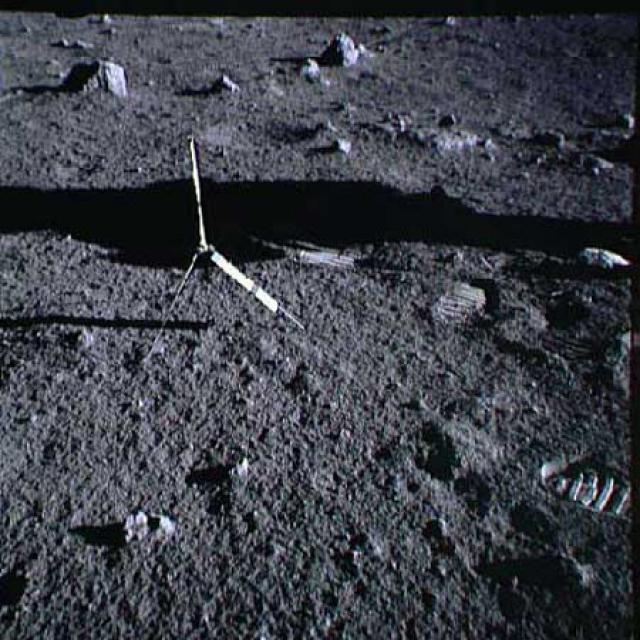artifact: (134, 130, 318, 366)
rock: (67, 56, 136, 100), (119, 508, 180, 542), (328, 30, 371, 70), (576, 239, 628, 272), (321, 120, 352, 156), (209, 70, 245, 96), (296, 57, 325, 83)
